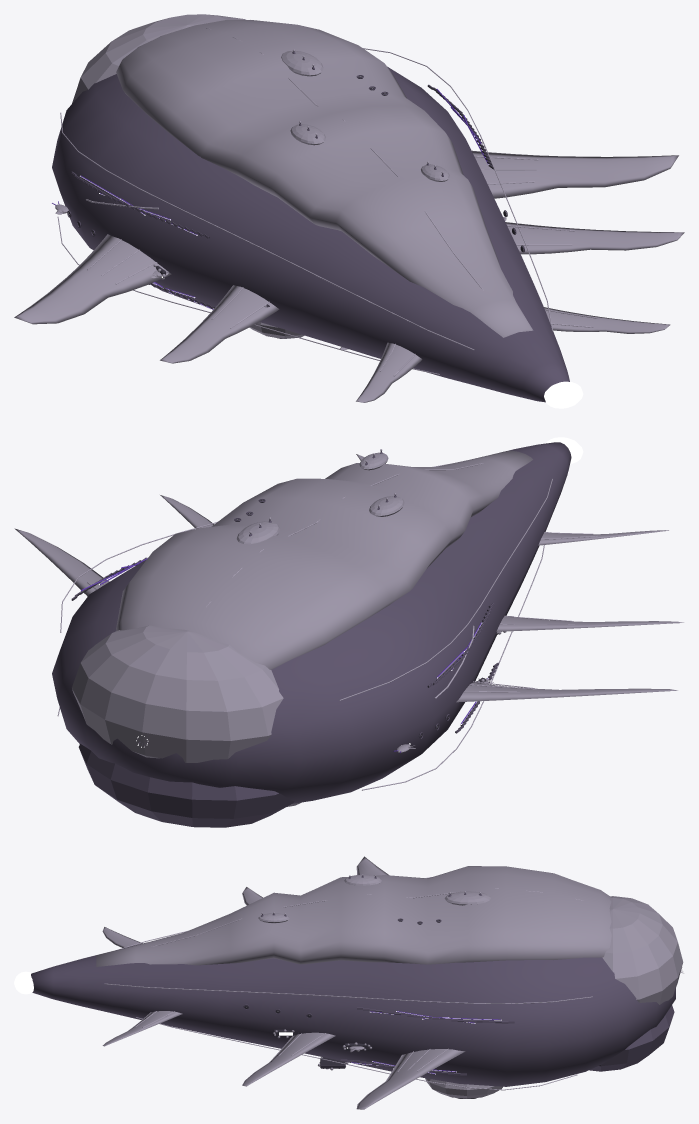
The picture shows the model from 3 angles, top to bottom: view 1: azimuth 30°, elevation 25°; view 2: azimuth 150°, elevation 25°; view 3: azimuth 270°, elevation 25°; orthographic projection. The views are drawn at different scales.
Visible parts, largest first — view 1: RIMWARD_HULL, RIMWARD_ENGINE_GLOW; view 2: RIMWARD_HULL; view 3: RIMWARD_HULL.
Boxes of the visible parts, box(x1,y1,x2,y2) form: RIMWARD_HULL: box(14, 14, 684, 402); RIMWARD_ENGINE_GLOW: box(544, 381, 583, 408); RIMWARD_HULL: box(14, 442, 683, 827); RIMWARD_HULL: box(31, 856, 683, 1109).
Bounding box in the file's own units: 76.02 × 29.5 × 85.13.
